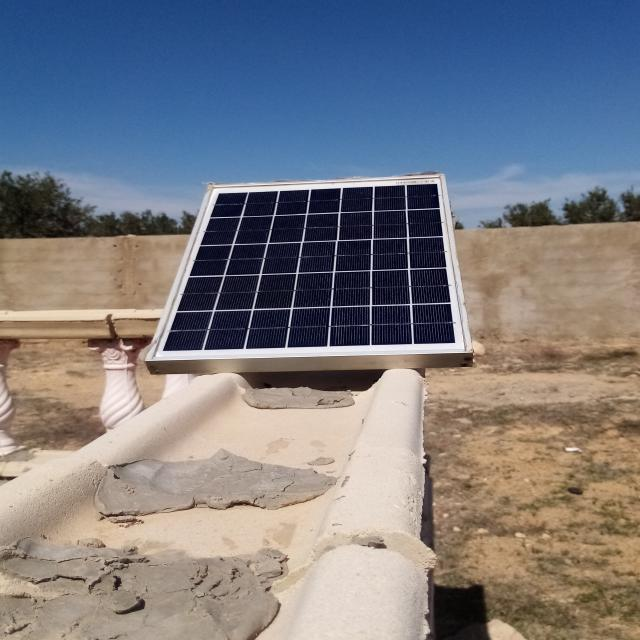no faulty: (148, 175, 466, 362)
